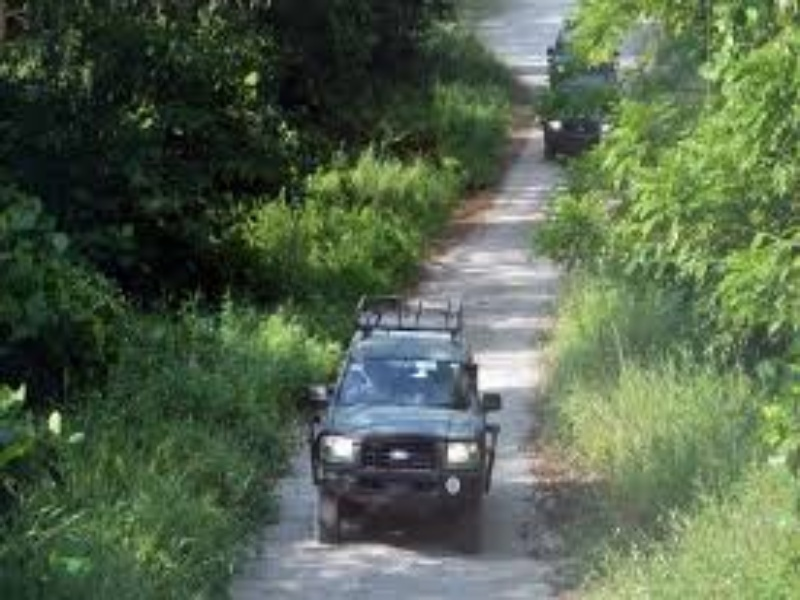jeep: (302, 294, 504, 559)
